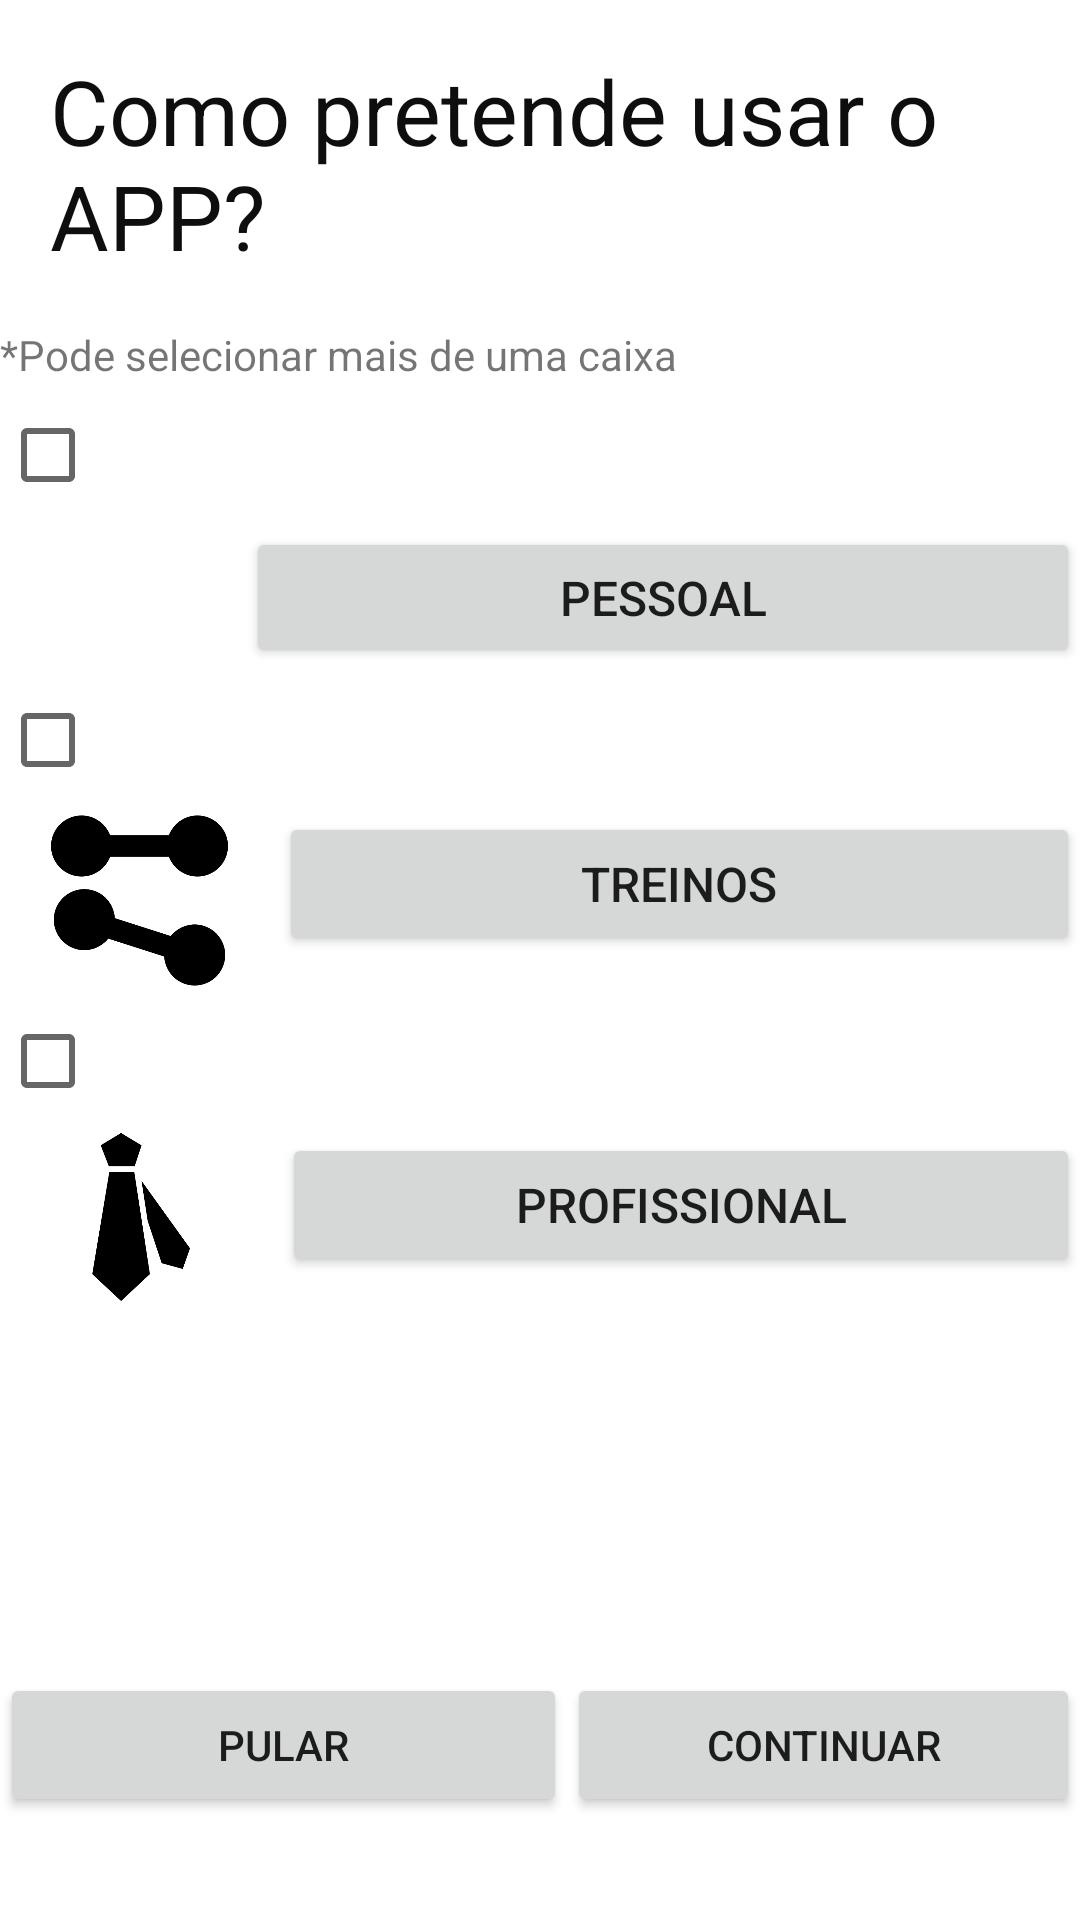

Named icons in this screenshot (1080x1920) and their bounding boxes, [x1, y1, x2, y2]:
gravata: [92, 1133, 190, 1301]
